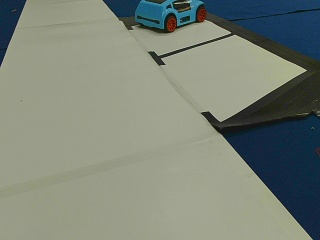car: (136, 1, 207, 33)
